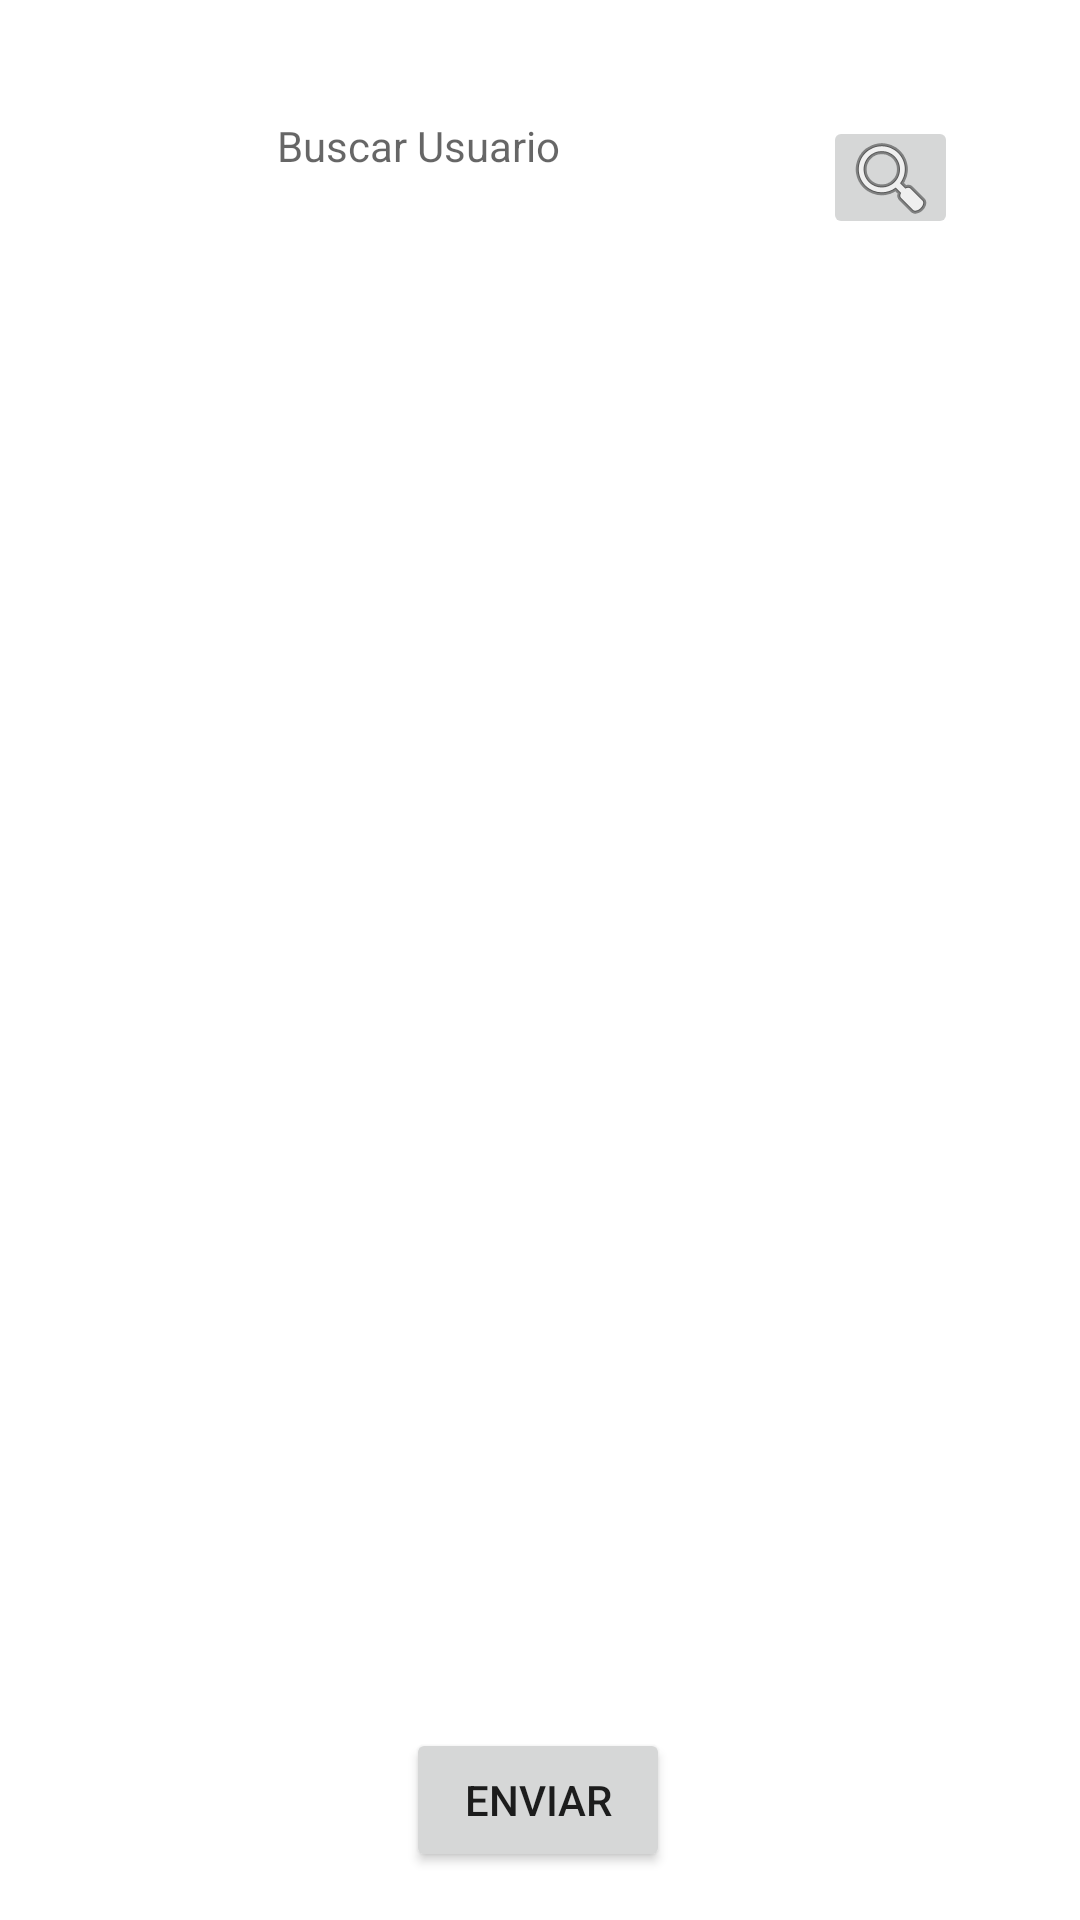

Named icons in this screenshot (1080px×1920px) and their centers, (x=x, y=y):
search: (x=890, y=177)
